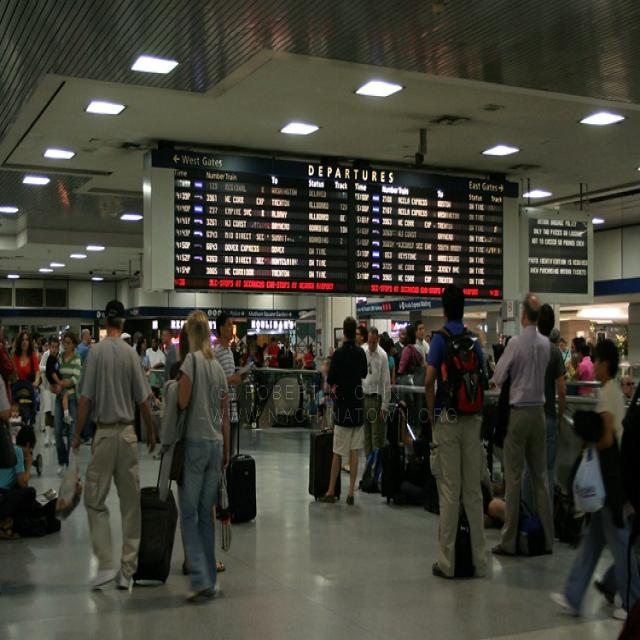body: (66, 297, 158, 594), (548, 338, 631, 621), (159, 306, 232, 607), (422, 279, 492, 582), (477, 393, 592, 559), (162, 315, 228, 578), (491, 290, 556, 556), (592, 371, 639, 639), (516, 299, 567, 530), (317, 315, 368, 507), (0, 327, 68, 426), (212, 312, 251, 463), (358, 325, 392, 485), (48, 328, 82, 478), (0, 422, 38, 542), (370, 326, 432, 388), (230, 331, 318, 370), (43, 334, 76, 426), (470, 329, 512, 393), (135, 334, 153, 443), (11, 328, 41, 389), (558, 332, 598, 372), (144, 336, 167, 400), (320, 356, 337, 424), (412, 317, 431, 363), (8, 402, 23, 447), (73, 327, 92, 362), (275, 335, 294, 370), (74, 334, 92, 365), (160, 326, 175, 356), (355, 324, 369, 347), (404, 324, 418, 346), (120, 331, 132, 347)
